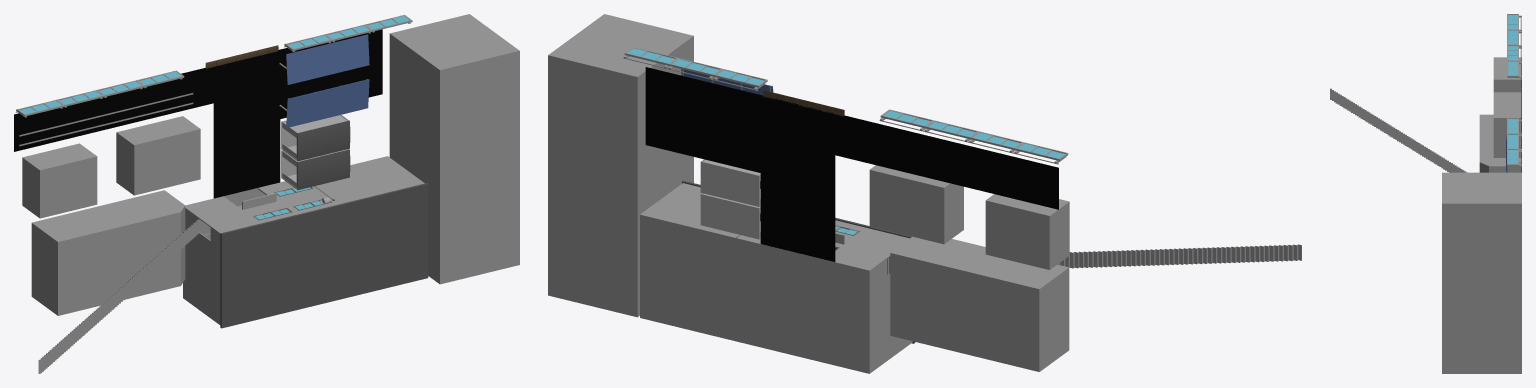
Rendered from GOMI.obj.
3 renders of one model, left to right at view 1: azimuth 30°, elevation 25°; view 2: azimuth 150°, elevation 25°; view 3: azimuth 270°, elevation 25°, orthographic. The views are drawn at different scales.
Parts seen in each view (by area): view 1: Body4:20, Body151, Body147, Body3:22, Body5:20, Body1:35, Body2:14, Body7:12, Body5:19, Body6:14, Body2:5, Body2:4 (+2 smaller); view 2: Body5:20, Body4:20, Body147, Body3:22, Body1:35, Body2:14, Body7:12, Body1:11, Body1:10; view 3: Body4:20, Body7:12, Body1:35, Body3:22, Body2:14.
Part boxes in pixels (left/top/right/bottom): Body4:20: left=389, top=14, right=519, bottom=284; Body151: left=220, top=183, right=428, bottom=328; Body147: left=14, top=29, right=382, bottom=198; Body3:22: left=31, top=190, right=185, bottom=315; Body5:20: left=183, top=156, right=424, bottom=324; Body1:35: left=116, top=116, right=200, bottom=195; Body2:14: left=22, top=143, right=97, bottom=218; Body7:12: left=38, top=218, right=207, bottom=373; Body5:19: left=286, top=34, right=369, bottom=84; Body6:14: left=286, top=79, right=369, bottom=127; Body2:5: left=297, top=120, right=350, bottom=161; Body2:4: left=297, top=149, right=350, bottom=190; Body5:20: left=640, top=183, right=912, bottom=373; Body4:20: left=548, top=14, right=693, bottom=317; Body147: left=645, top=67, right=1058, bottom=261; Body3:22: left=890, top=236, right=1069, bottom=371; Body1:35: left=869, top=165, right=963, bottom=244; Body2:14: left=985, top=194, right=1069, bottom=269; Body7:12: left=887, top=244, right=1301, bottom=274; Body1:11: left=700, top=159, right=760, bottom=206; Body1:10: left=700, top=193, right=760, bottom=239; Body4:20: left=1442, top=172, right=1521, bottom=373; Body7:12: left=1330, top=88, right=1467, bottom=172; Body1:35: left=1493, top=92, right=1521, bottom=157; Body3:22: left=1479, top=114, right=1521, bottom=172; Body2:14: left=1493, top=57, right=1521, bottom=92.
Size of the model in its own units: 539 by 220 by 204.
